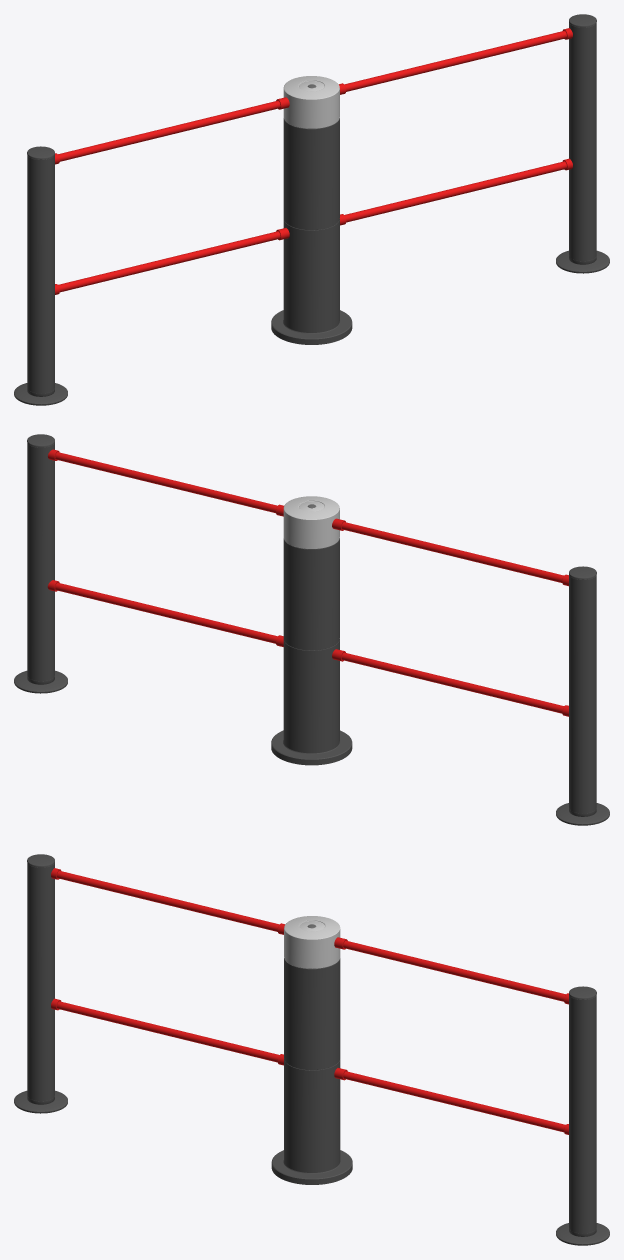
The model's file is Blockade_1.fbx.
3 views of the same model, one above another, from view 1: azimuth 30°, elevation 25°; view 2: azimuth 150°, elevation 25°; view 3: azimuth 330°, elevation 25° (orthographic).
Visible parts, largest first — view 1: polySurface11, polySurface9, polySurface3, polySurface1, polySurface2, polySurface12, polySurface19, polySurface10, polySurface18; view 2: polySurface11, polySurface9, polySurface3, polySurface1, polySurface2, polySurface19, polySurface12, polySurface10, polySurface18; view 3: polySurface9, polySurface11, polySurface3, polySurface1, polySurface2, polySurface10, polySurface18, polySurface12, polySurface19.
Part boxes in pixels (x1,y1,x2,y2): polySurface11: (14,146,67,405); polySurface9: (556,14,609,273); polySurface3: (271,219,352,344); polySurface1: (283,118,339,229); polySurface2: (283,76,339,128); polySurface12: (55,97,289,164); polySurface19: (55,228,289,294); polySurface10: (339,28,572,94); polySurface18: (340,158,572,225); polySurface11: (556,566,609,825); polySurface9: (14,434,67,693); polySurface3: (271,639,352,765); polySurface1: (283,538,339,650); polySurface2: (283,496,339,548); polySurface19: (332,649,568,716); polySurface12: (332,518,568,586); polySurface10: (47,449,283,516); polySurface18: (47,580,283,646); polySurface9: (556,986,609,1245); polySurface11: (14,854,67,1113); polySurface3: (271,1059,352,1184); polySurface1: (284,958,340,1069); polySurface2: (284,916,340,968); polySurface10: (334,937,568,1004); polySurface18: (334,1068,568,1134); polySurface12: (51,868,284,934); polySurface19: (51,998,283,1065).
Bounding box in the file's own units: 207 × 81.66 × 24.7.
